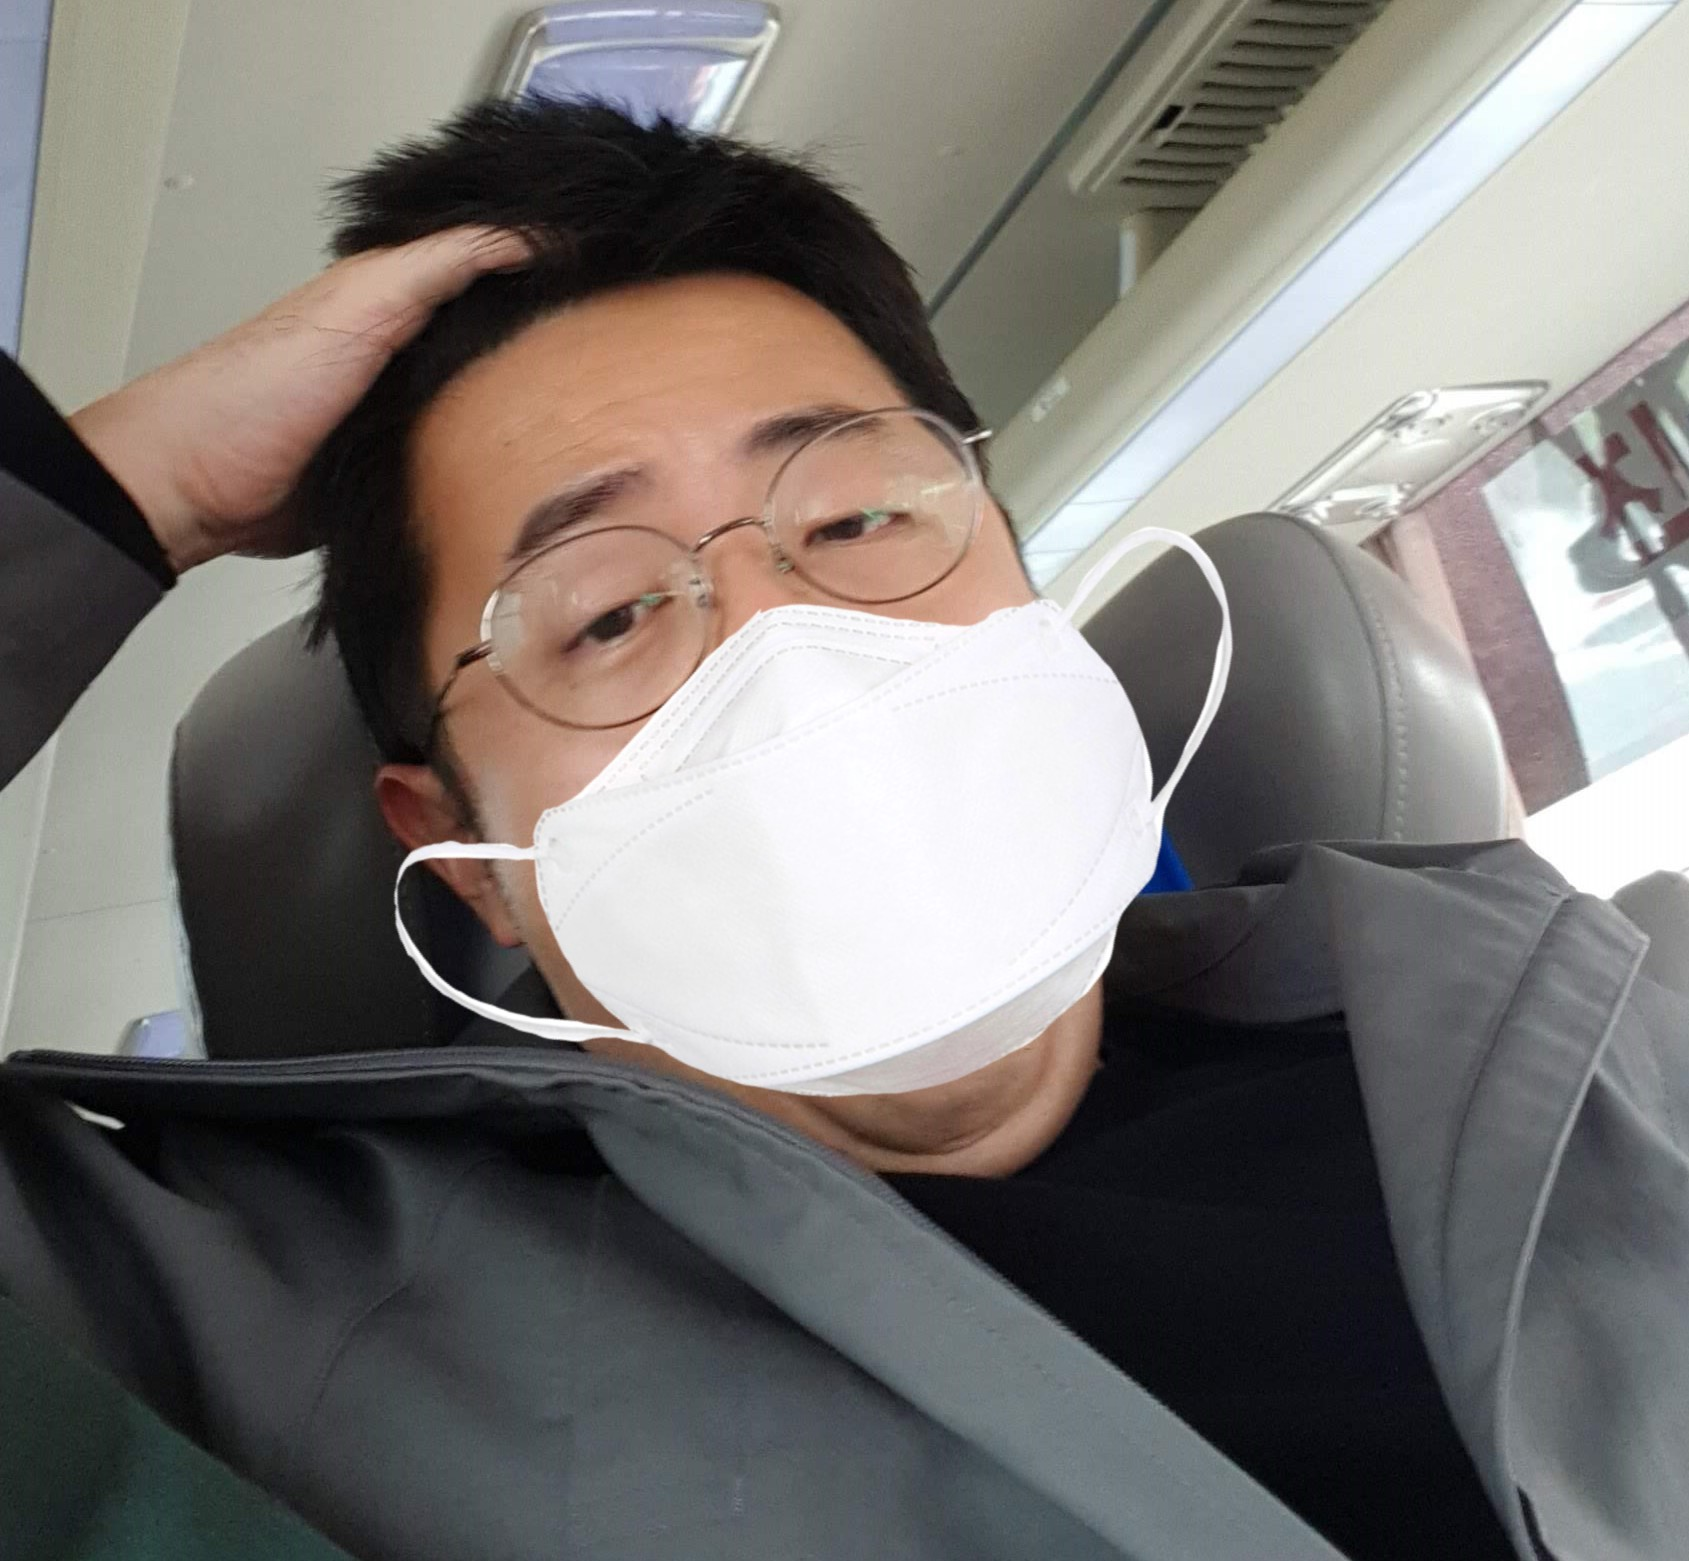mask: (424, 312, 1089, 1123)
